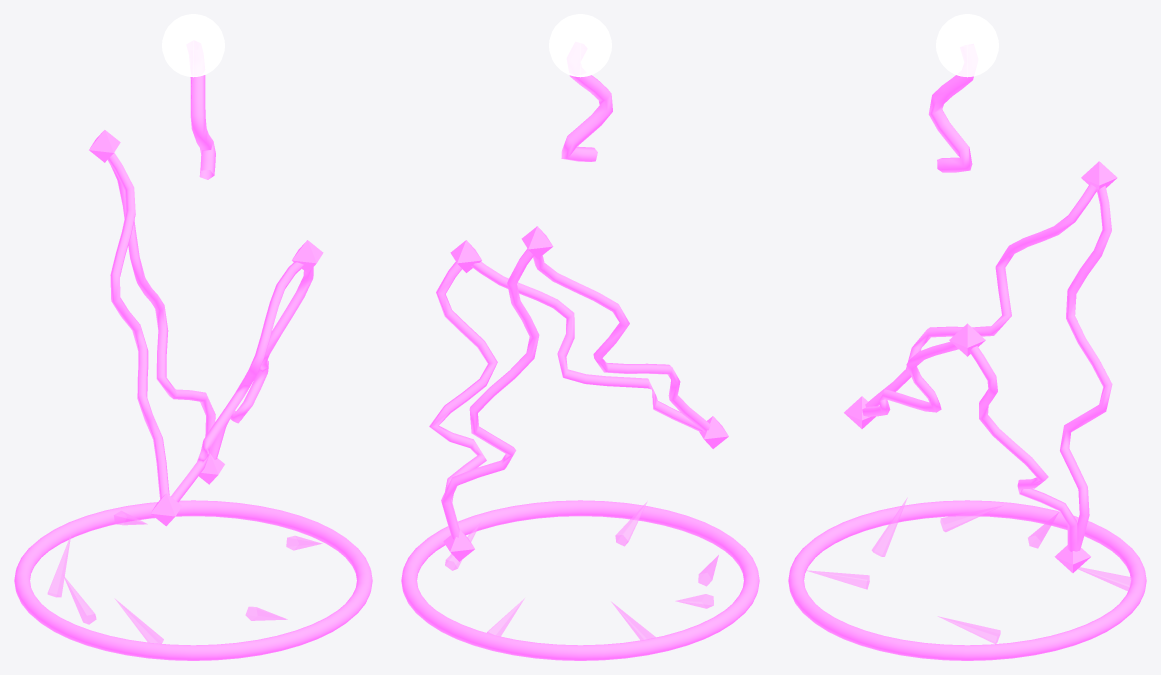
Rendered from vfx_status_shock.glb.
3 views of the same model, side by side, from view 1: azimuth 30°, elevation 25°; view 2: azimuth 150°, elevation 25°; view 3: azimuth 270°, elevation 25° (orthographic).
Parts seen in each view (by area): view 1: shock_ring, shock_arc1, shock_strike_flash, shock_arc0, shock_arc2, shock_ground, shock_arc3, shock_strike, shock_node1, shock_node2, shock_node0; view 2: shock_ring, shock_arc2, shock_strike_flash, shock_arc1, shock_arc0, shock_arc3, shock_ground, shock_strike, shock_node2, shock_node0, shock_node3; view 3: shock_ring, shock_arc2, shock_arc1, shock_strike_flash, shock_ground, shock_arc3, shock_strike, shock_arc0, shock_node0, shock_node2, shock_node3.
Boxes of the visible parts, bbox=[...] form: shock_ring: bbox=[14, 500, 372, 660]; shock_arc1: bbox=[107, 152, 169, 499]; shock_strike_flash: bbox=[162, 14, 224, 77]; shock_arc0: bbox=[171, 262, 303, 502]; shock_arc2: bbox=[109, 163, 215, 436]; shock_ground: bbox=[47, 511, 322, 643]; shock_arc3: bbox=[210, 267, 313, 459]; shock_strike: bbox=[190, 75, 215, 179]; shock_node1: bbox=[150, 493, 181, 526]; shock_node2: bbox=[89, 130, 120, 162]; shock_node0: bbox=[292, 240, 323, 272]; shock_ring: bbox=[401, 500, 759, 660]; shock_arc2: bbox=[441, 248, 539, 539]; shock_strike_flash: bbox=[549, 14, 611, 77]; shock_arc1: bbox=[533, 255, 710, 431]; shock_arc0: bbox=[471, 261, 702, 431]; shock_arc3: bbox=[429, 262, 497, 537]; shock_ground: bbox=[445, 501, 718, 640]; shock_strike: bbox=[561, 75, 612, 161]; shock_node2: bbox=[521, 226, 553, 259]; shock_node0: bbox=[450, 240, 481, 272]; shock_node3: bbox=[443, 529, 474, 561]; shock_ring: bbox=[788, 500, 1146, 660]; shock_arc2: bbox=[1060, 185, 1112, 551]; shock_arc1: bbox=[865, 184, 1096, 407]; shock_strike_flash: bbox=[936, 14, 998, 77]; shock_ground: bbox=[806, 497, 1132, 643]; shock_arc3: bbox=[969, 346, 1077, 551]; shock_strike: bbox=[928, 75, 973, 172]; shock_arc0: bbox=[862, 341, 958, 416]; shock_node0: bbox=[949, 323, 985, 356]; shock_node2: bbox=[1081, 161, 1117, 191]; shock_node3: bbox=[1054, 545, 1090, 572].
Bounding box in the file's own units: 1.36 × 2.43 × 1.36.
